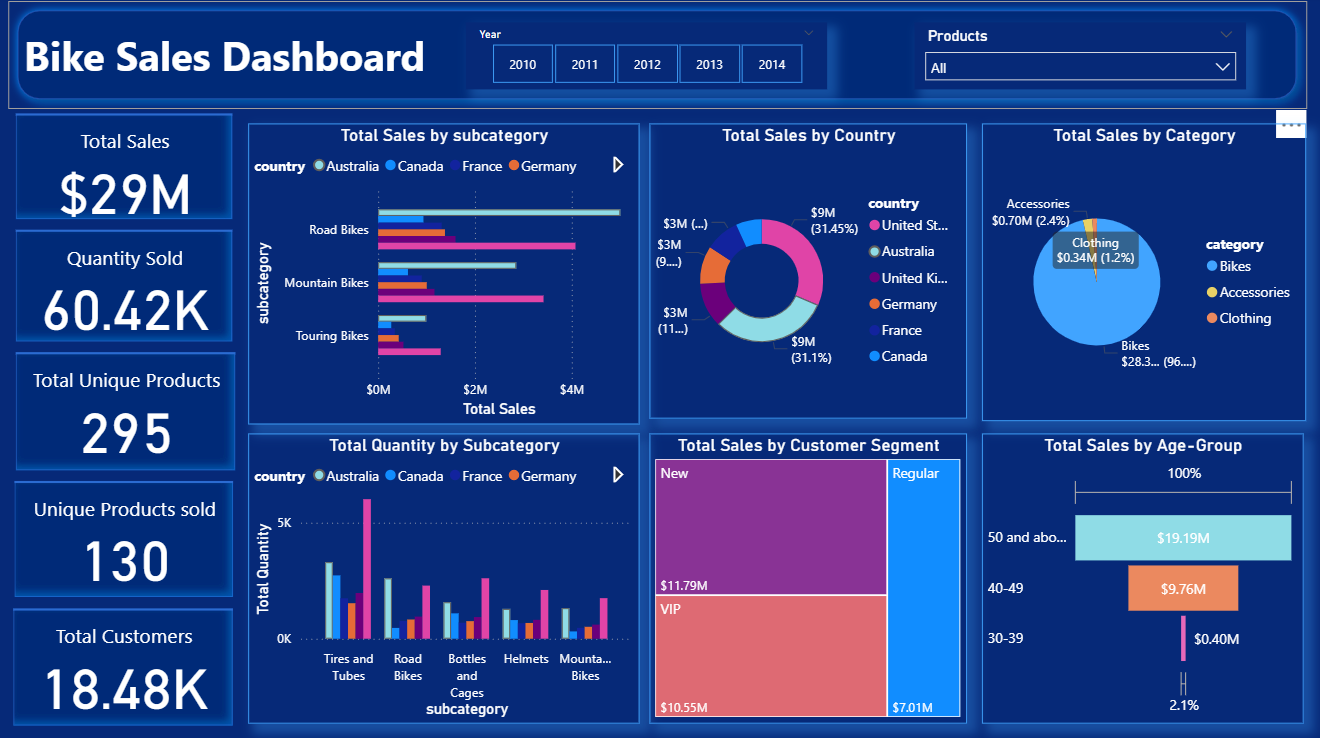

What the dashboard file says about the page in this screenshot:
{"tool":"powerbi","page":{"name":"Page 1","canvas":[1280,720],"ordinal":0},"visuals":[{"type":"shape","title":"Bike SalesDashborad","box":[11.2,5,1252.5,103.8],"z":0},{"type":"cardVisual","fields":{"Data":["Sum(gold fact_sales.sales_amount)"]},"box":[0,140,232.5,123.8],"z":1000},{"type":"cardVisual","fields":{"Data":["Sum(gold fact_sales.quantity)"]},"box":[0,273.8,232.5,128.8],"z":2000},{"type":"cardVisual","fields":{"Data":["Count(gold fact_sales.customer_key)"]},"box":[0,562.5,232.5,123.8],"z":3000},{"type":"cardVisual","fields":{"Data":["Count(gold dim_products.product_id)"]},"box":[0,422.5,232.5,123.8],"z":4000},{"type":"donutChart","title":"Total Sales by Country","fields":{"Category":["gold dim_customers.country"],"Y":["Sum(gold fact_sales.sales_amount)"]},"box":[630,140,306.2,267.5],"z":5000},{"type":"clusteredColumnChart","title":"Total Quantity by Subcategory","fields":{"Category":["gold dim_products.subcategory"],"Series":["gold dim_customers.country"],"Y":["Sum(gold fact_sales.quantity)"]},"box":[242.5,422.5,377.5,280],"z":6000},{"type":"pieChart","title":"Total Sales by Category","fields":{"Category":["gold report_products.category"],"Y":["Sum(gold report_products.total_sales)"]},"box":[951.2,140,312.5,270],"z":7000},{"type":"funnel","title":"Total Sales by Age-Group","fields":{"Category":["gold report_customers.age_group"],"Y":["Sum(gold report_customers.total_sales)"]},"box":[951.2,422.5,310,280],"z":8000},{"type":"treemap","title":"Total Sales by Customer Segment","fields":{"Group":["gold report_customers.customer_segment"],"Values":["Sum(gold report_customers.total_sales)"]},"box":[630,422.5,306.2,280],"z":9000},{"type":"slicer","title":"Products","fields":{"Values":["gold dim_products.product_name"]},"box":[885,25,320,65],"z":10000},{"type":"slicer","fields":{"Values":["gold fact_sales.order_date.Variation.Date Hierarchy.Year"]},"box":[452.5,25,348.8,65],"z":11000},{"type":"clusteredBarChart","title":"Total Sales by subcategory","fields":{"Category":["gold dim_products.subcategory"],"Y":["Sum(gold fact_sales.sales_amount)"],"Series":["gold dim_customers.country"]},"box":[242.5,140,377.5,272.5],"z":12000}]}

Visuals, with their boxes in screenshot pixels (x1, y1, x2, y2), scaled from the page's 1280x720 canvas onto the 1320x738 screenshot:
"Bike SalesDashborad" shape: (left=12, top=5, right=1303, bottom=112)
cardVisual - Sum(gold fact_sales.sales_amount): (left=0, top=144, right=240, bottom=270)
cardVisual - Sum(gold fact_sales.quantity): (left=0, top=281, right=240, bottom=413)
cardVisual - Count(gold fact_sales.customer_key): (left=0, top=577, right=240, bottom=703)
cardVisual - Count(gold dim_products.product_id): (left=0, top=433, right=240, bottom=560)
"Total Sales by Country" donutChart: (left=650, top=144, right=965, bottom=418)
"Total Quantity by Subcategory" clusteredColumnChart: (left=250, top=433, right=639, bottom=720)
"Total Sales by Category" pieChart: (left=981, top=144, right=1303, bottom=420)
"Total Sales by Age-Group" funnel: (left=981, top=433, right=1301, bottom=720)
"Total Sales by Customer Segment" treemap: (left=650, top=433, right=965, bottom=720)
"Products" slicer: (left=913, top=26, right=1243, bottom=92)
slicer - gold fact_sales.order_date.Variation.Date Hierarchy.Year: (left=467, top=26, right=826, bottom=92)
"Total Sales by subcategory" clusteredBarChart: (left=250, top=144, right=639, bottom=423)
